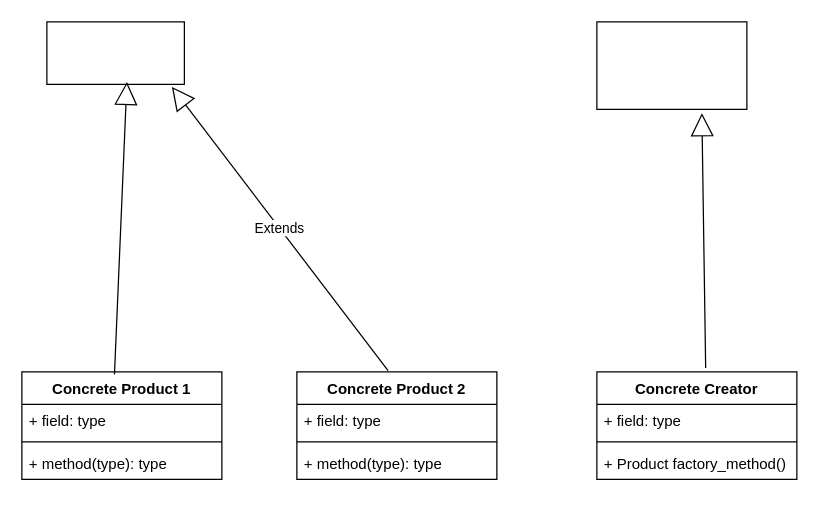
This 819x505 diagram has some shape labels left out. The centre of each missing label's shape, as x and y in pixels:
"«interface» Creator Product factory_method()" belongs at (671,65).
"«interface» Product" belongs at (115,52).
